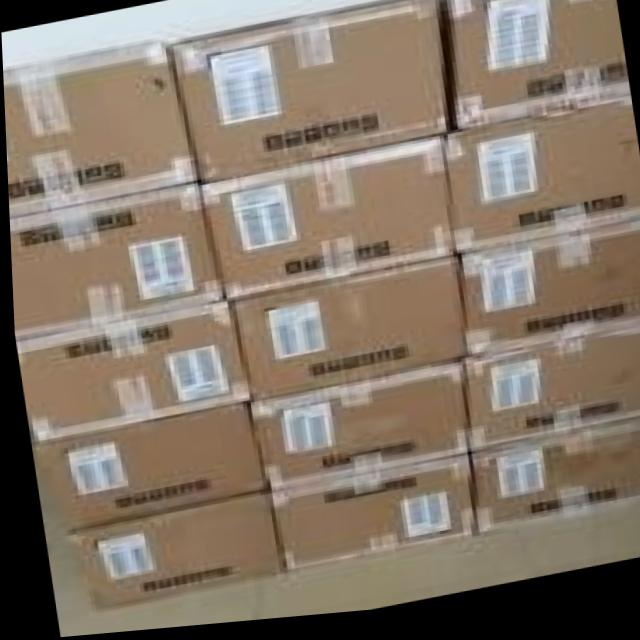box: (165, 0, 445, 182), (198, 144, 450, 303), (3, 43, 200, 217), (8, 185, 220, 342), (13, 305, 247, 445), (227, 266, 460, 403), (444, 105, 640, 260), (27, 408, 262, 533), (243, 369, 460, 497), (62, 494, 280, 612), (442, 0, 625, 140), (457, 232, 640, 366), (457, 335, 640, 461), (266, 464, 468, 578), (468, 429, 640, 542)
